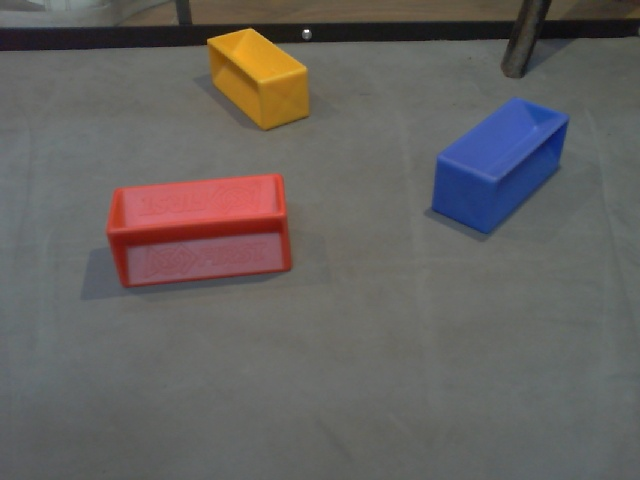BlueSample: (430, 94, 570, 237)
RedSample: (102, 170, 297, 290)
YellowSample: (202, 27, 315, 136)
